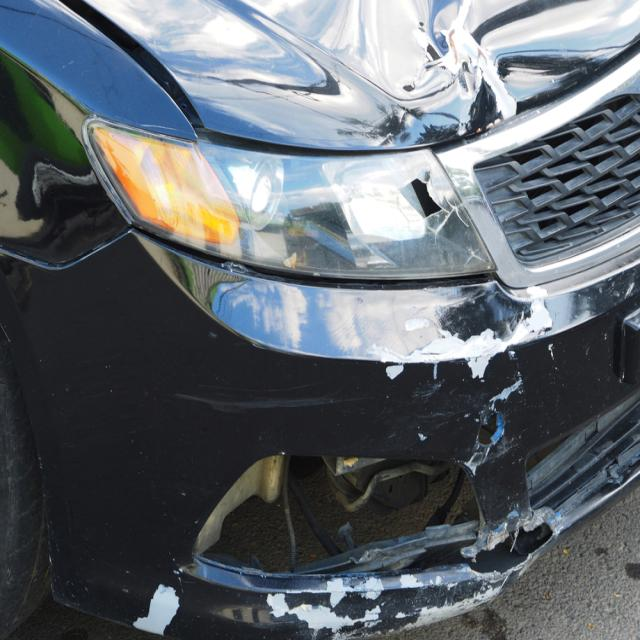crack: (397, 523, 560, 579)
dent: (229, 0, 640, 125)
lamp broken: (86, 116, 497, 281)
scratch: (368, 284, 562, 469), (267, 567, 513, 639), (134, 582, 185, 636)
